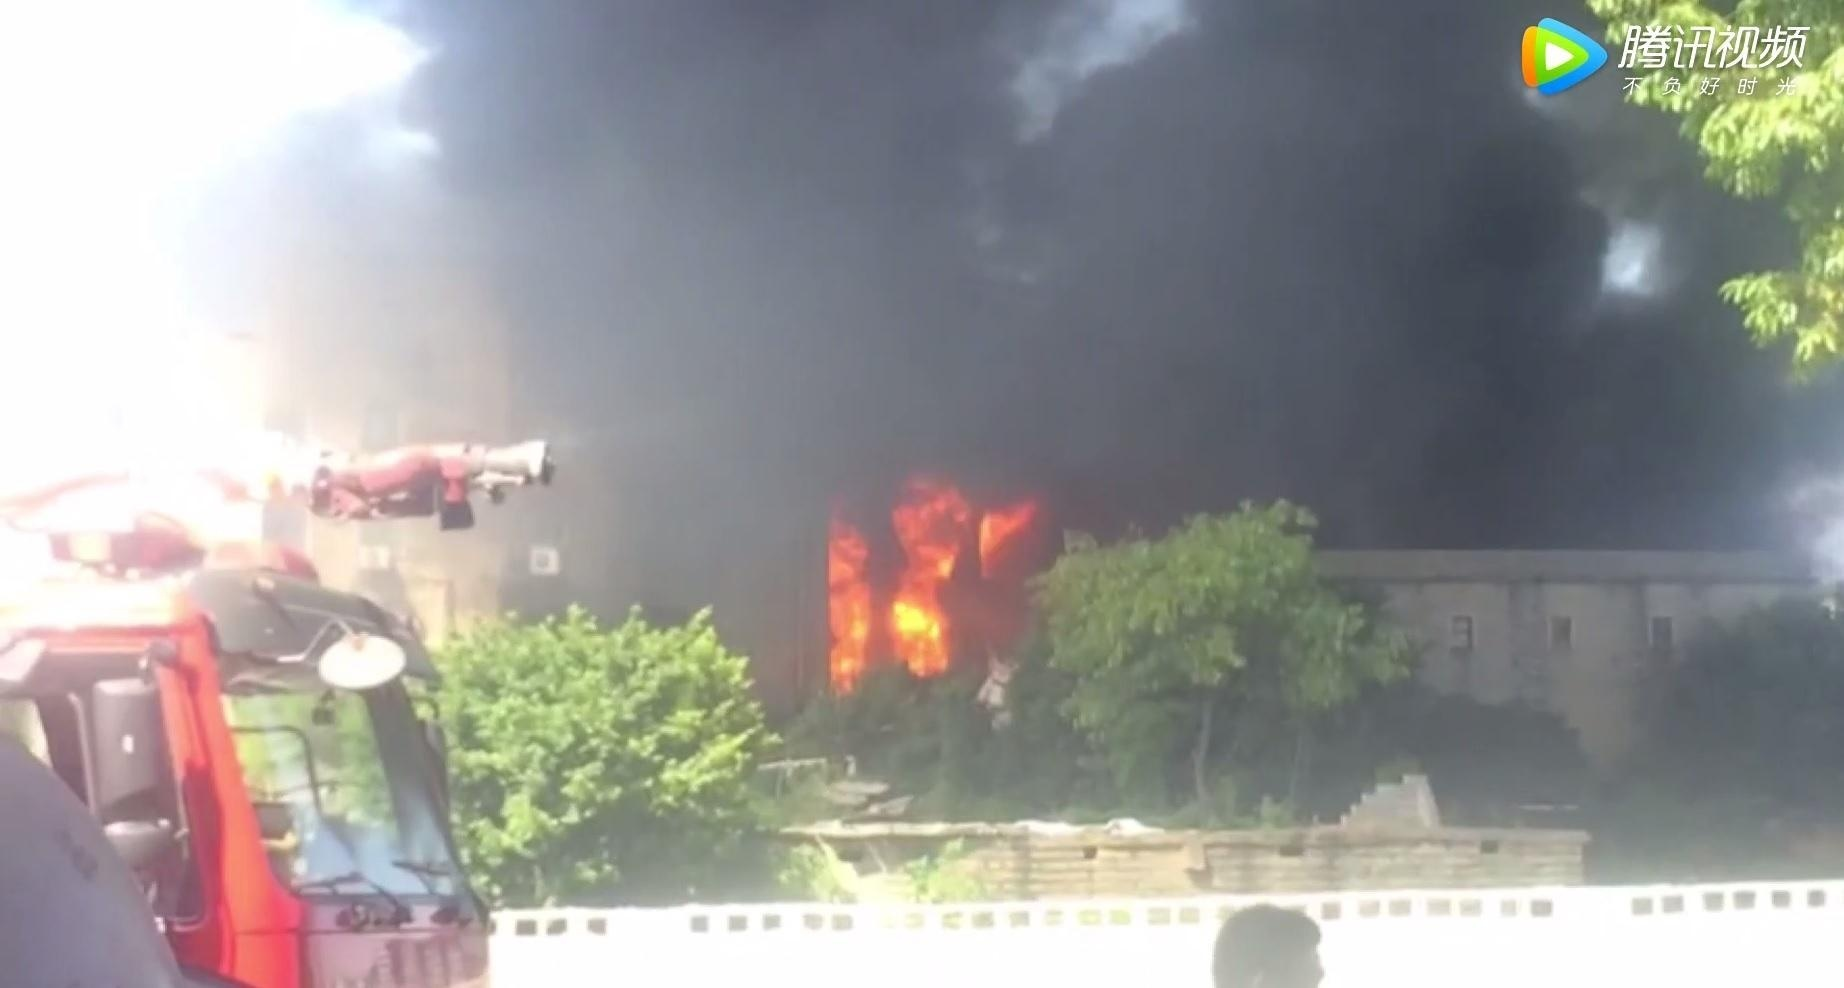fire: (817, 478, 1035, 684)
